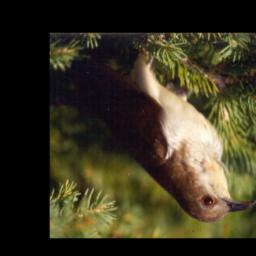Cuckoo: (58, 49, 256, 224)
